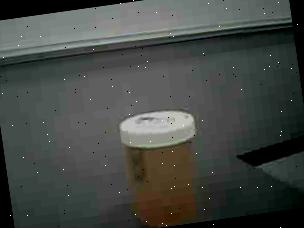Bottle B: (103, 96, 219, 228)
